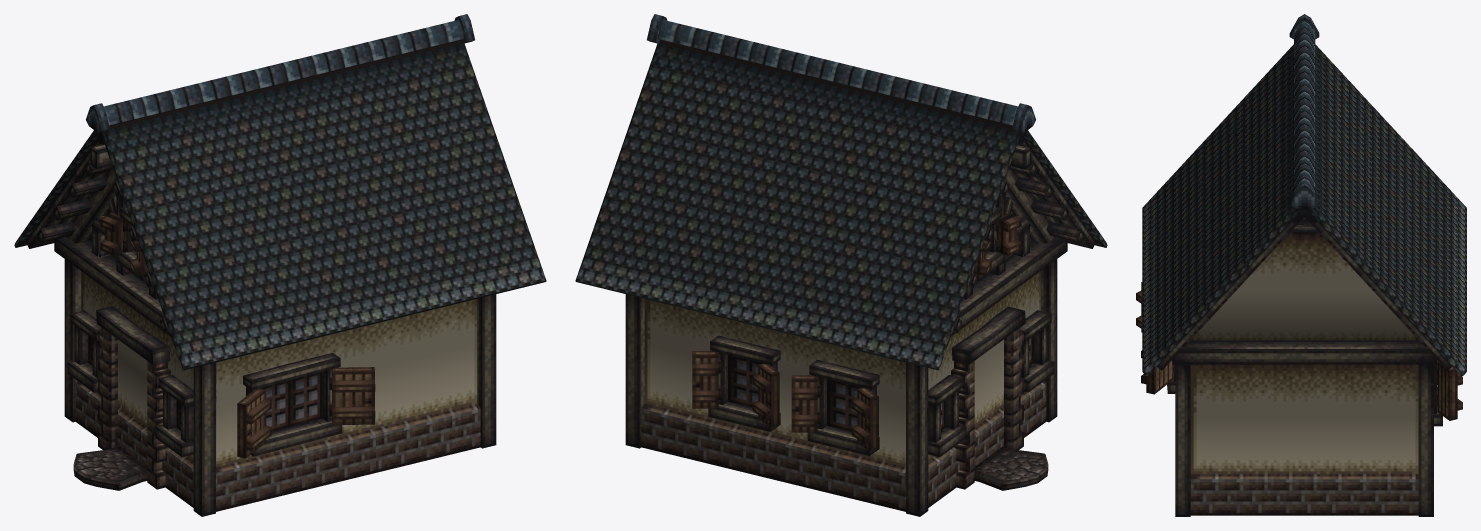
The model's file is EnvBdgMD_Mount_A_Outdoor_House_D.FBX.
3 renders of one model, left to right at view 1: azimuth 30°, elevation 25°; view 2: azimuth 150°, elevation 25°; view 3: azimuth 270°, elevation 25°, orthographic. The views are drawn at different scales.
Visible parts, largest first — view 1: EnvBdgMD_Mount_A_Outdoor_House_D; view 2: EnvBdgMD_Mount_A_Outdoor_House_D; view 3: EnvBdgMD_Mount_A_Outdoor_House_D.
Part boxes in pixels (x1,y1,x2,y2): EnvBdgMD_Mount_A_Outdoor_House_D: [14, 14, 546, 516]; EnvBdgMD_Mount_A_Outdoor_House_D: [575, 14, 1107, 516]; EnvBdgMD_Mount_A_Outdoor_House_D: [1136, 14, 1466, 516].
Bounding box in the file's own units: 685 × 626 × 537.
1 material, 1 textured.
